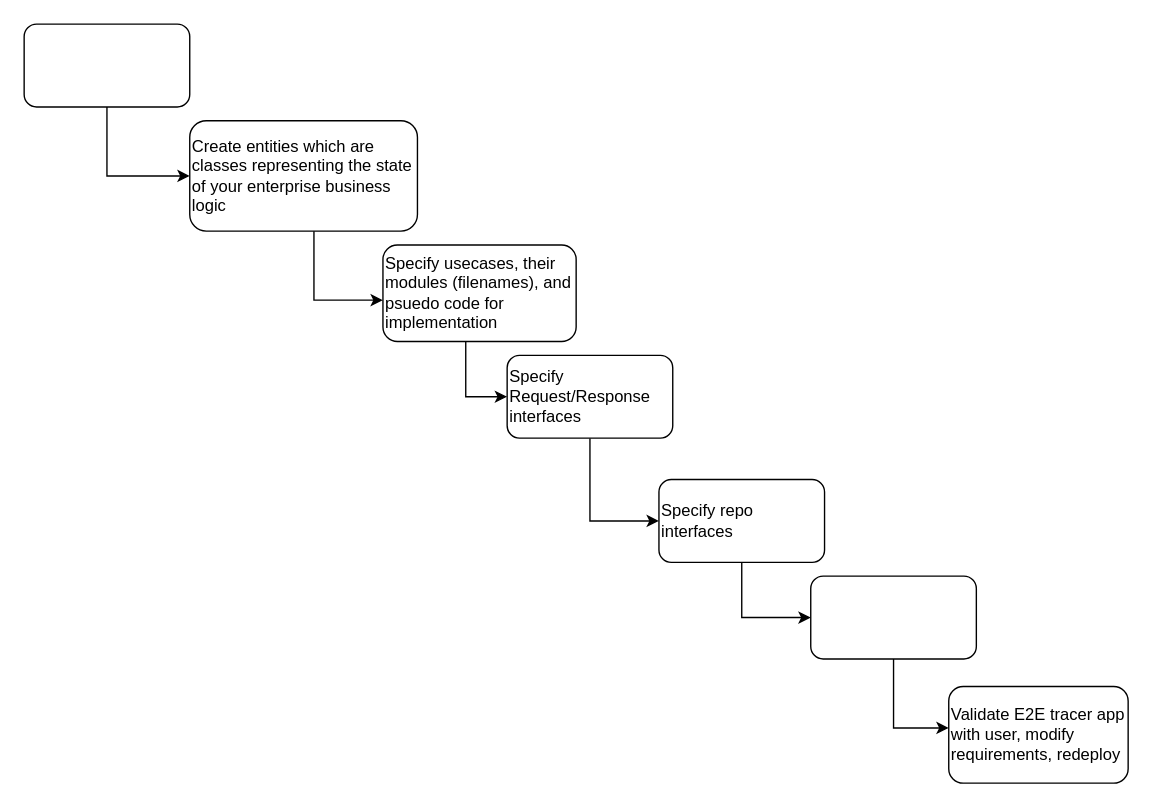
The diagram is 1152 pixels wide and 807 high, and some of its shapes have lost their labels. The shapes that lost their labels are listed below. From the top down, each one's box as (x1, y1, x2, y2) in pixels, then its label:
(23, 23, 190, 107): Gather business requirements
(809, 575, 976, 659): End-to-End implementation of a usecase
